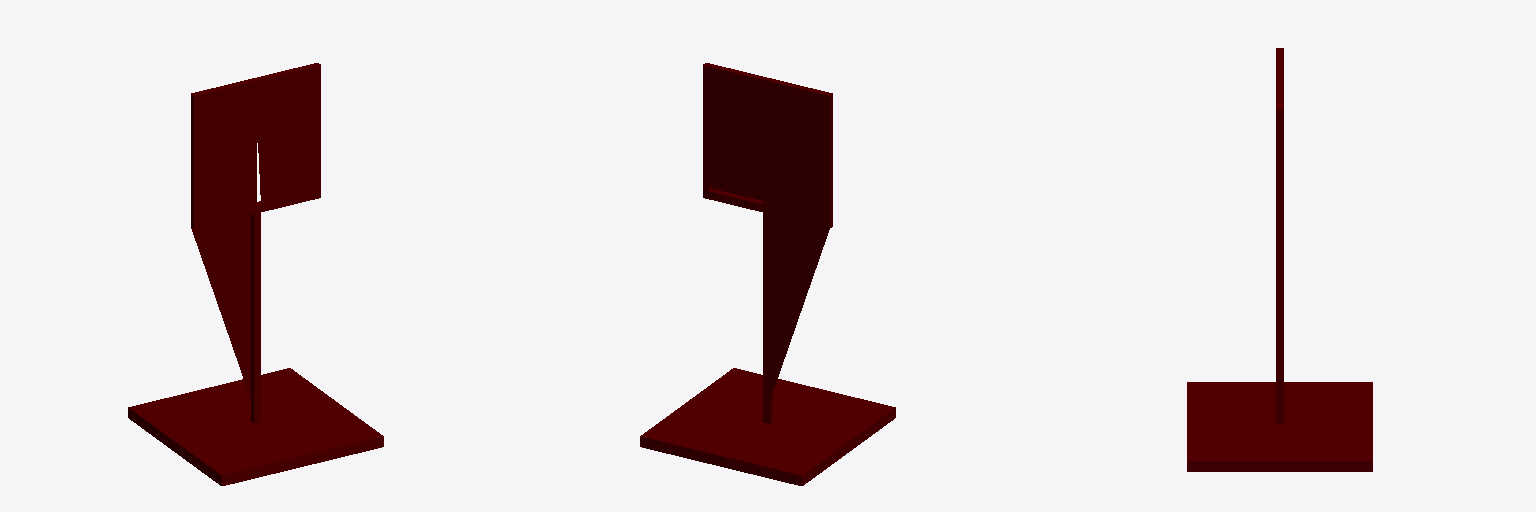
File: gate.obj
The picture shows the model from 3 angles: view 1: azimuth 30°, elevation 25°; view 2: azimuth 150°, elevation 25°; view 3: azimuth 270°, elevation 25°; orthographic projection.
Parts seen in each view (by area): view 1: Cube_Cube.001; view 2: Cube_Cube.001; view 3: Cube_Cube.001.
Part boxes in pixels (x1,y1,x2,y2): Cube_Cube.001: (128,63,383,485); Cube_Cube.001: (640,63,895,485); Cube_Cube.001: (1187,48,1372,471).
Size of the model in its own units: 1.36 by 2.83 by 1.36.